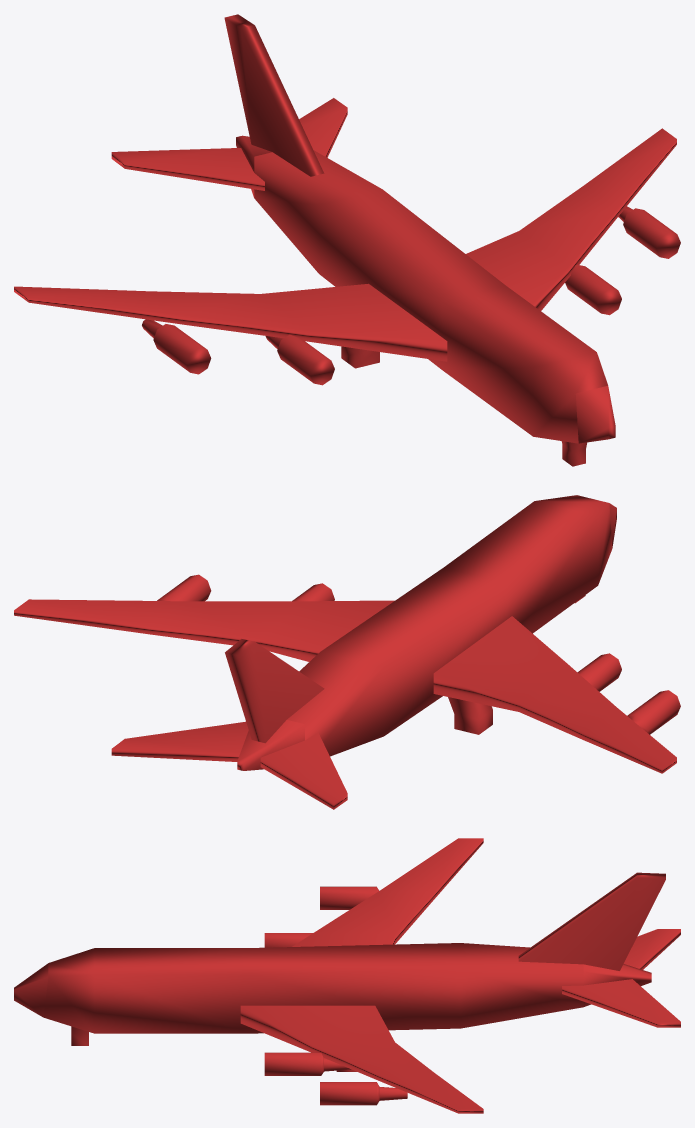
The model's file is passagiermaschine_707_colmesh.fbx.
The picture shows the model from 3 angles, top to bottom: view 1: azimuth 30°, elevation 25°; view 2: azimuth 150°, elevation 25°; view 3: azimuth 270°, elevation 25°; orthographic projection. The views are drawn at different scales.
Parts seen in each view (by area): view 1: body_main; view 2: body_main; view 3: body_main.
Boxes of the visible parts, bbox=[...] form: body_main: bbox=[14, 14, 680, 466]; body_main: bbox=[14, 495, 680, 809]; body_main: bbox=[14, 838, 680, 1113].
Bounding box in the file's own units: 4125 × 1193 × 4298.
